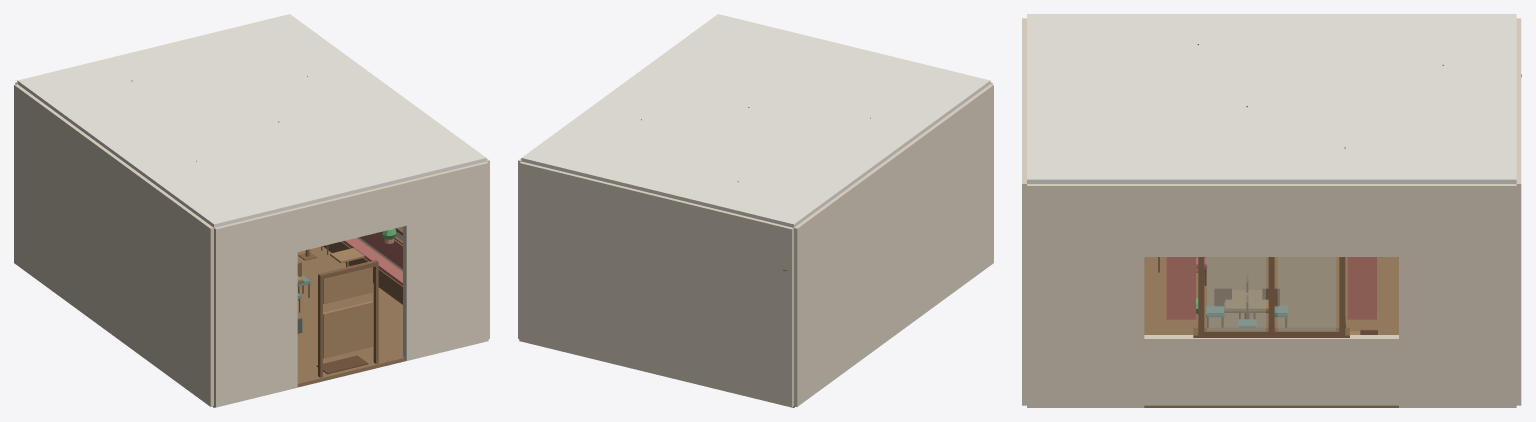
3 renders of one model, left to right at view 1: azimuth 30°, elevation 25°; view 2: azimuth 150°, elevation 25°; view 3: azimuth 270°, elevation 25°, orthographic. The views are drawn at different scales.
Parts seen in each view (by area): view 1: Ceiling, Wall_Left, Wall_Front_R, Wall_Front_L, Wall_Front_Top, Floor, Door_Panel_Bot, Door_Panel_Top, Bench_Body, Bench_Pad, Bench_BackPad, Door_Frame_R (+3 smaller); view 2: Ceiling, Wall_Back, Wall_Left; view 3: Ceiling, Wall_Right_Top, Wall_Right_Bot, Wall_Right_FarR, Wall_Right_FarL, Floor, Win_Glass_L, Win_Glass_R, Wall_Back, Curtain_L, Curtain_R, Wall_Front_R (+7 smaller).
Part boxes in pixels (x1,y1,x2,y2): Ceiling: (17,14,486,227); Wall_Left: (14,84,213,406); Wall_Front_R: (403,163,488,360); Wall_Front_L: (214,208,297,407); Wall_Front_Top: (214,161,487,271); Floor: (212,246,405,407); Door_Panel_Bot: (323,301,372,358); Door_Panel_Top: (323,267,372,304); Bench_Body: (323,237,402,304); Bench_Pad: (342,238,402,285); Bench_BackPad: (360,232,402,267); Door_Frame_R: (373,265,378,363); Ceiling: (521,14,990,227); Wall_Back: (519,161,793,407); Wall_Left: (794,84,993,406); Ceiling: (1027,14,1516,183); Wall_Right_Top: (1027,184,1516,256); Wall_Right_Bot: (1027,335,1516,405); Wall_Right_FarR: (1399,184,1516,407); Wall_Right_FarL: (1027,184,1144,407); Floor: (1144,257,1398,407); Win_Glass_L: (1207,257,1265,331); Win_Glass_R: (1278,257,1335,331); Wall_Back: (1516,18,1521,405); Curtain_L: (1166,257,1195,319); Curtain_R: (1347,257,1376,319); Wall_Front_R: (1022,140,1026,405).
Bounding box in the file's own units: 8.2 × 5.17 × 10.21.
